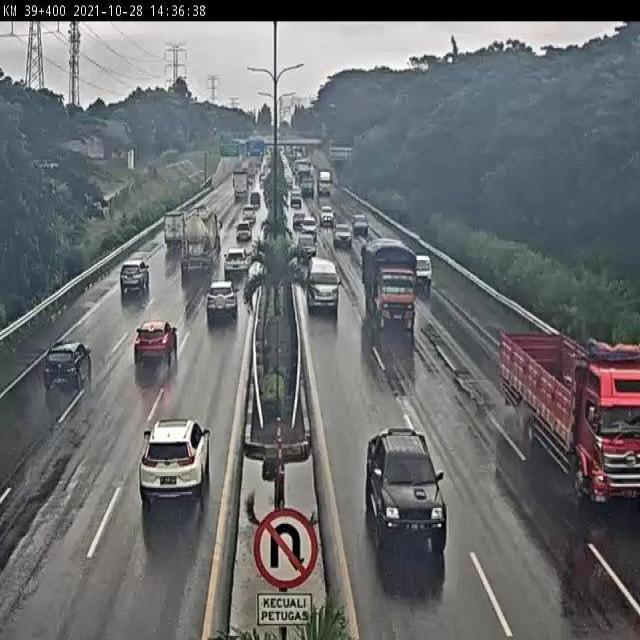truck-m-: (502, 325, 640, 500), (360, 238, 416, 326)
truck-xl-: (180, 205, 224, 275)
